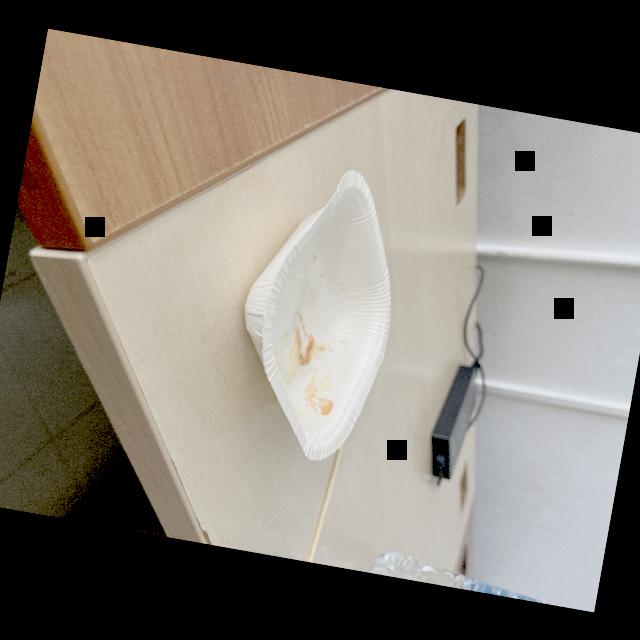cardboard_bowl: (218, 152, 424, 478)
stick: (302, 442, 346, 564)
